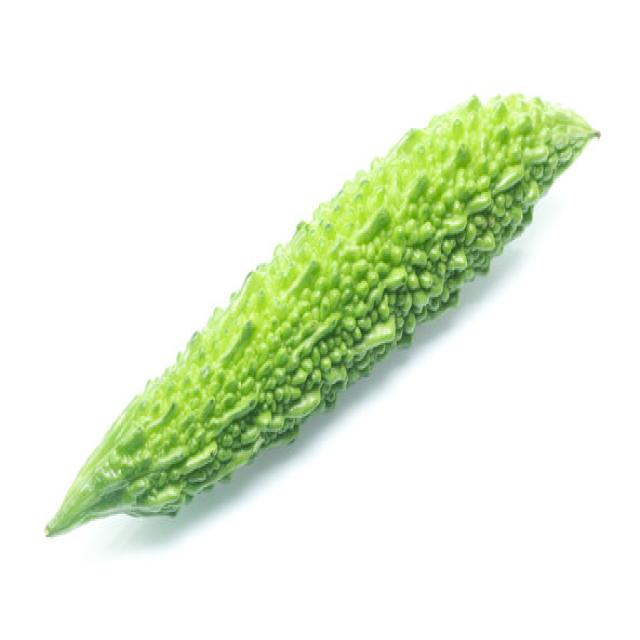Bitter_Gourd: (43, 89, 600, 539)
